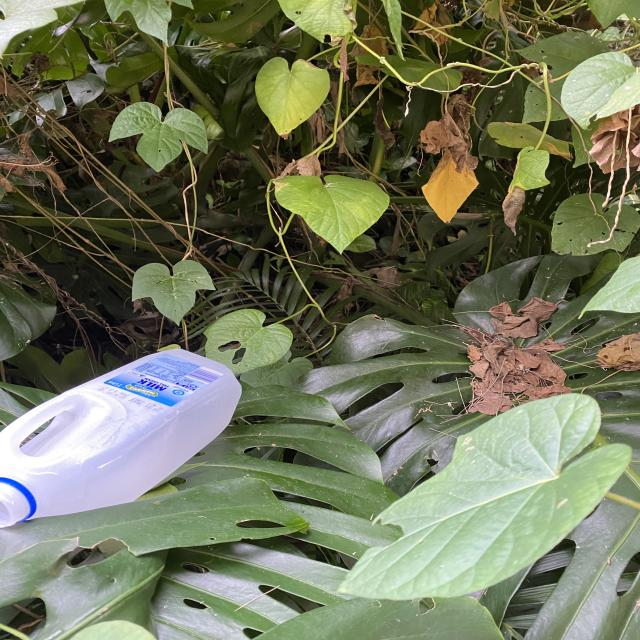bottle: (0, 344, 246, 540)
